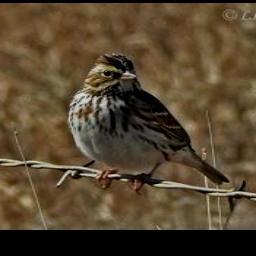Sparrow: (61, 52, 231, 195)
